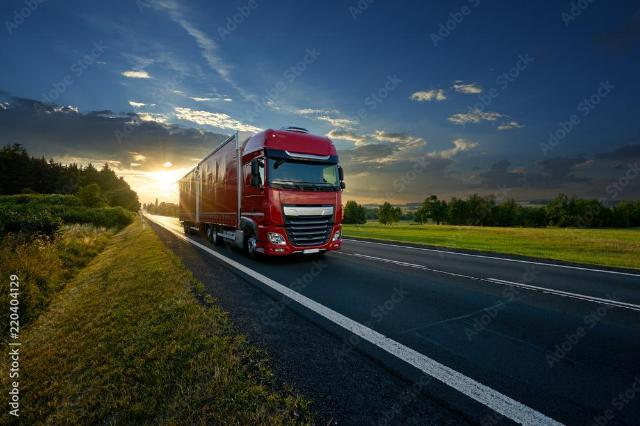truck: (193, 122, 359, 257)
